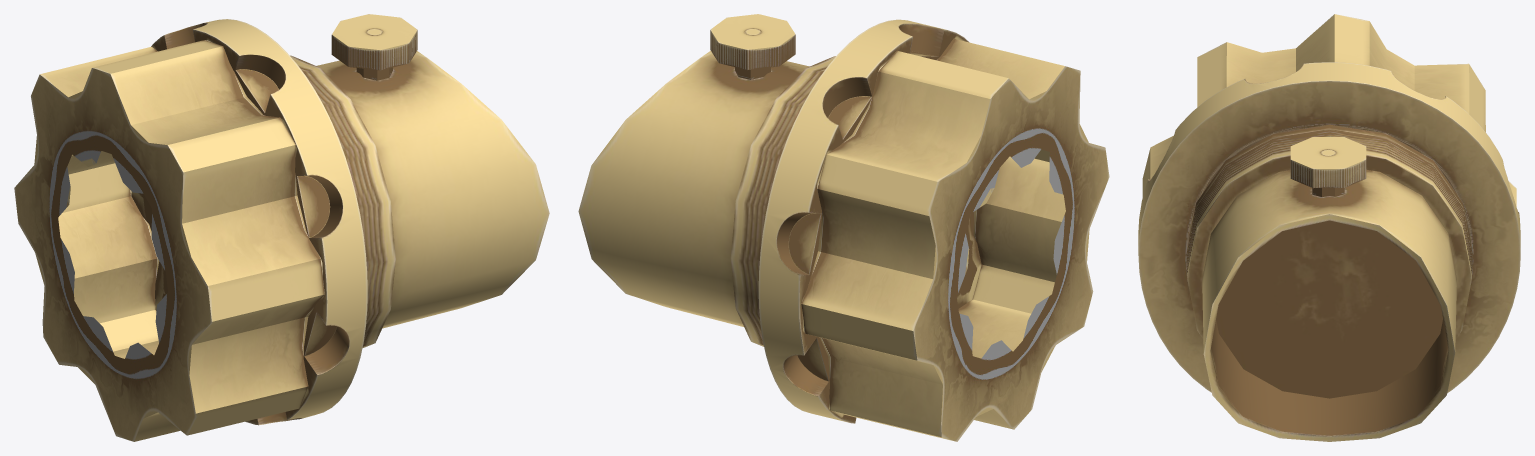
File: guard_12_c_b.glb
The picture shows the model from 3 angles, left to right: view 1: azimuth 30°, elevation 25°; view 2: azimuth 150°, elevation 25°; view 3: azimuth 270°, elevation 25°; orthographic projection. The views are drawn at different scales.
Parts seen in each view (by area): view 1: guard_12_c_b_lod0; view 2: guard_12_c_b_lod0; view 3: guard_12_c_b_lod0.
Part boxes in pixels (box(x1,y1,x2,y2)): guard_12_c_b_lod0: box(14, 14, 549, 441); guard_12_c_b_lod0: box(578, 14, 1109, 441); guard_12_c_b_lod0: box(1138, 14, 1520, 441).
Size of what is drawn, in the model's own units: 0.0478 by 0.0452 by 0.0452.
Materials: 1 (1 with a texture image).
